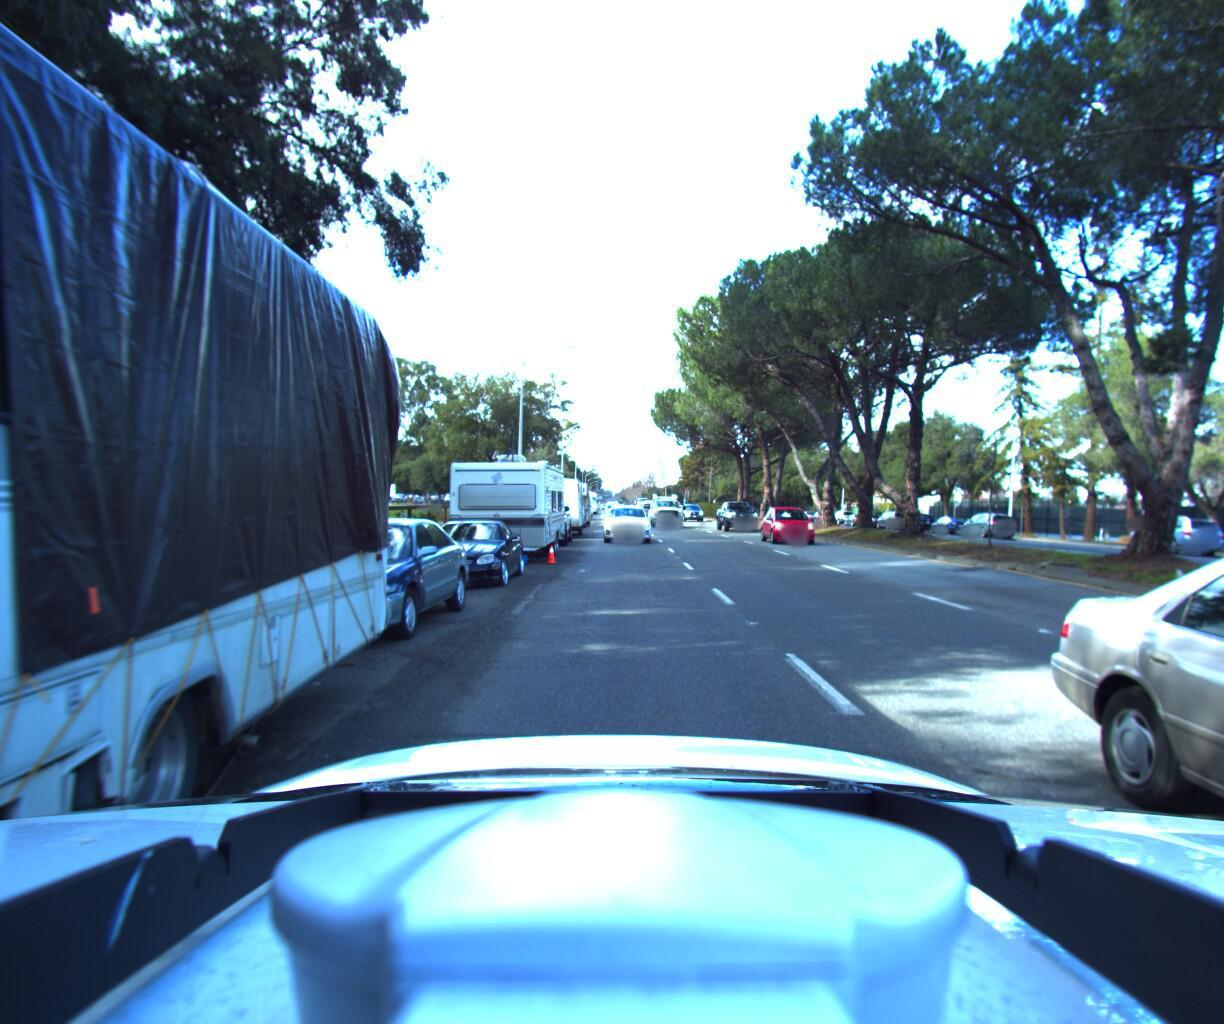car: (227, 514, 479, 663), (405, 517, 530, 595), (1120, 513, 1224, 557), (502, 493, 573, 550), (764, 501, 830, 544), (603, 501, 654, 544), (958, 509, 1020, 539), (720, 499, 766, 532), (647, 491, 684, 528), (925, 513, 975, 536), (894, 510, 937, 532), (683, 500, 708, 520)
other_vehicle: (436, 456, 568, 571), (515, 476, 585, 542), (550, 481, 591, 529)
